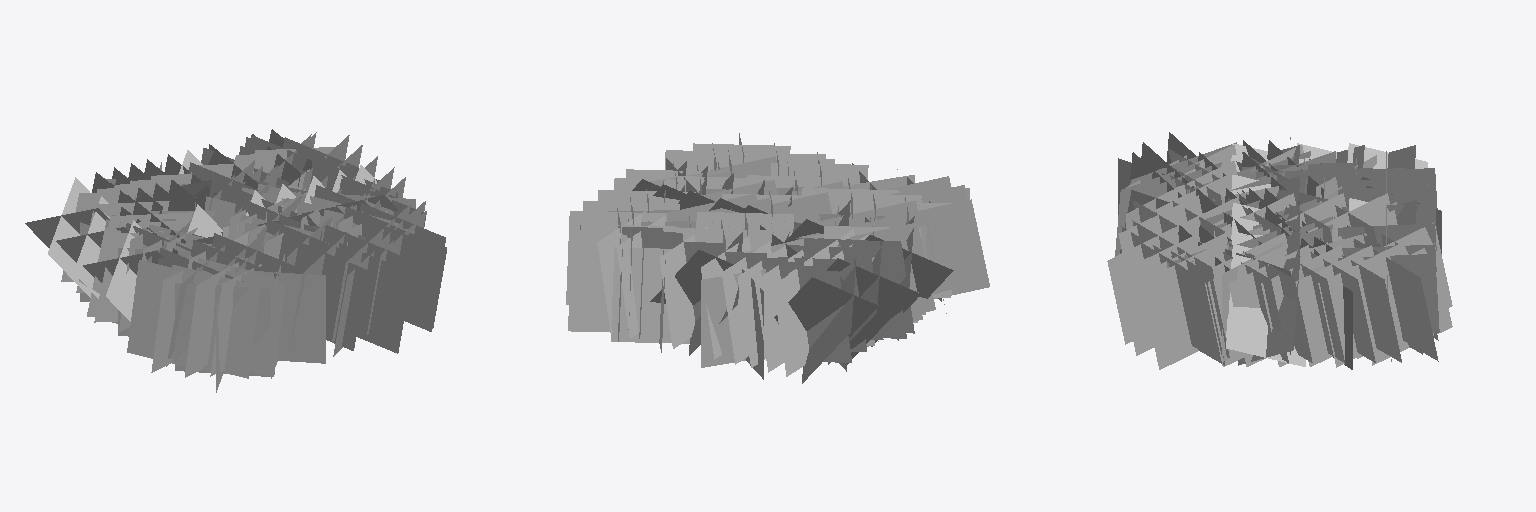
Rendered from grassMesh.obj.
3 renders of one model, left to right at view 1: azimuth 30°, elevation 25°; view 2: azimuth 150°, elevation 25°; view 3: azimuth 270°, elevation 25°, orthographic.
Visible parts, largest first — view 1: Plane.031; view 2: Plane.031; view 3: Plane.031.
Part boxes in pixels (x1,y1,x2,y2): Plane.031: (25, 129, 446, 392); Plane.031: (566, 133, 989, 383); Plane.031: (1107, 132, 1452, 369).
Bounding box in the file's own units: 7.97 × 2.59 × 7.09.